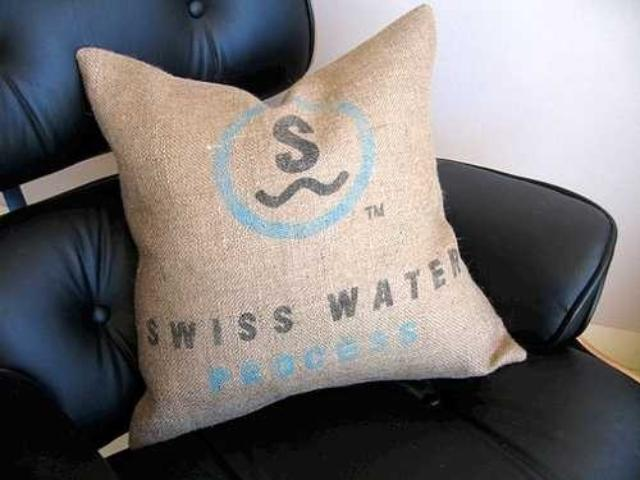pillow: (74, 3, 528, 451)
